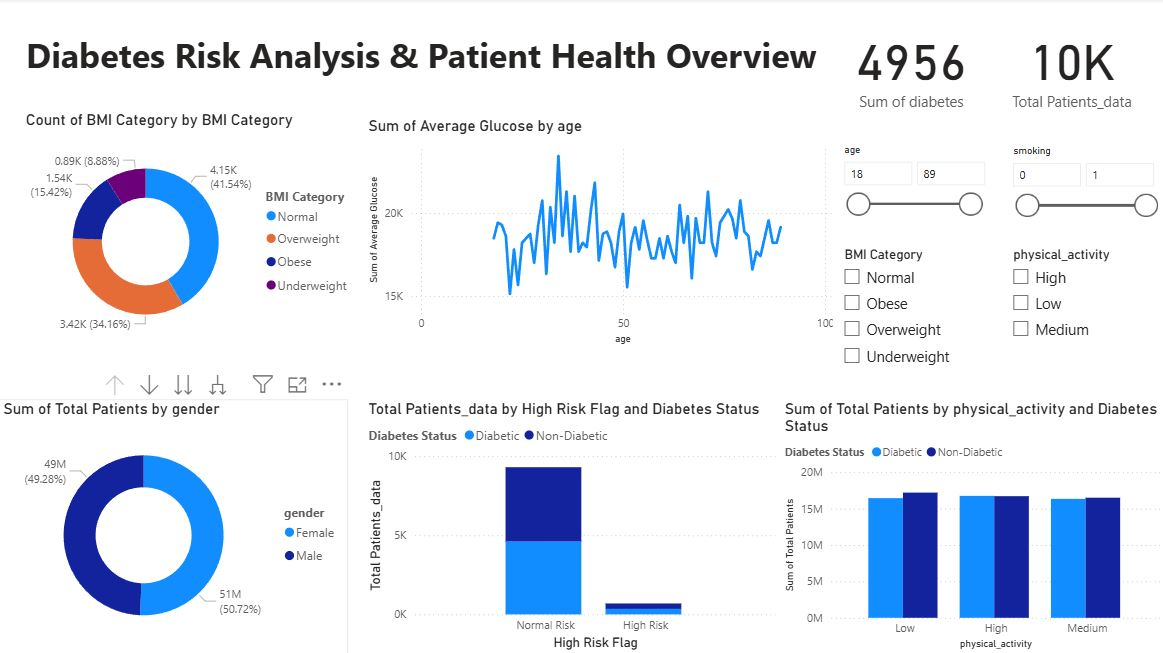

What the dashboard file says about the page in this screenshot:
{"tool":"powerbi","page":{"name":"Page 2","canvas":[1280,720],"ordinal":0},"visuals":[{"type":"donutChart","fields":{"Category":["public diabetes_data.gender","public diabetes_data.Total Diabetic"],"Y":["Sum(public diabetes_data.Total Patients)"]},"box":[0,440.5,382.8,279.9],"z":0},{"type":"donutChart","fields":{"Category":["public diabetes_data.BMI Category"],"Y":["CountNonNull(public diabetes_data.BMI Category)"]},"box":[24.7,123.5,376,269],"z":1000},{"type":"columnChart","fields":{"Category":["public diabetes_data.High Risk Flag"],"Y":["public diabetes_data.Total Patients_data"],"Series":["public diabetes_data.Diabetes Status"]},"box":[400.7,440.5,456.9,279.9],"z":3000},{"type":"lineChart","fields":{"Category":["public diabetes_data.age"],"Y":["Sum(public diabetes_data.Average Glucose)"]},"box":[400.7,130.4,521.4,255.2],"z":4000},{"type":"lineClusteredColumnComboChart","fields":{"Category":["public diabetes_data.physical_activity"],"Y":["Sum(public diabetes_data.Total Patients)"],"Series":["public diabetes_data.Diabetes Status"]},"box":[857.6,440.5,422.6,279.9],"z":5000},{"type":"slicer","fields":{"Values":["public diabetes_data.age"]},"box":[915.3,155.1,172.9,102.9],"z":5001},{"type":"slicer","fields":{"Values":["public diabetes_data.smoking"]},"box":[1100.5,156.4,179.8,124.9],"z":5002},{"type":"slicer","fields":{"Values":["public diabetes_data.BMI Category"]},"box":[915.3,267.6,166,150.9],"z":5003},{"type":"slicer","fields":{"Values":["public diabetes_data.physical_activity"]},"box":[1100.5,267.6,179.8,150.9],"z":5004},{"type":"card","fields":{"Values":["Sum(public diabetes_data.diabetes)"]},"box":[915,0,173,150],"z":5005},{"type":"card","fields":{"Values":["public diabetes_data.Total Patients_data"]},"box":[1088.2,19.2,179.8,111.1],"z":5006},{"type":"textbox","box":[24.7,31.6,890.6,68.6],"z":5007}]}

Visuals, with their boxes in screenshot pixels (x1, y1, x2, y2), scaled from the page's 1280x720 canvas onto the 1163x653 screenshot:
donutChart - public diabetes_data.gender x public diabetes_data.Total Diabetic: [x1=0, y1=400, x2=348, y2=652]
donutChart - public diabetes_data.BMI Category x CountNonNull(public diabetes_data.BMI Category): [x1=22, y1=112, x2=364, y2=356]
columnChart - public diabetes_data.High Risk Flag x public diabetes_data.Total Patients_data: [x1=364, y1=400, x2=779, y2=652]
lineChart - public diabetes_data.age x Sum(public diabetes_data.Average Glucose): [x1=364, y1=118, x2=838, y2=350]
lineClusteredColumnComboChart - public diabetes_data.physical_activity x Sum(public diabetes_data.Total Patients): [x1=779, y1=400, x2=1162, y2=652]
slicer - public diabetes_data.age: [x1=832, y1=141, x2=989, y2=234]
slicer - public diabetes_data.smoking: [x1=1000, y1=142, x2=1162, y2=255]
slicer - public diabetes_data.BMI Category: [x1=832, y1=243, x2=982, y2=380]
slicer - public diabetes_data.physical_activity: [x1=1000, y1=243, x2=1162, y2=380]
card - Sum(public diabetes_data.diabetes): [x1=831, y1=0, x2=989, y2=136]
card - public diabetes_data.Total Patients_data: [x1=989, y1=17, x2=1152, y2=118]
textbox: [x1=22, y1=29, x2=832, y2=91]
